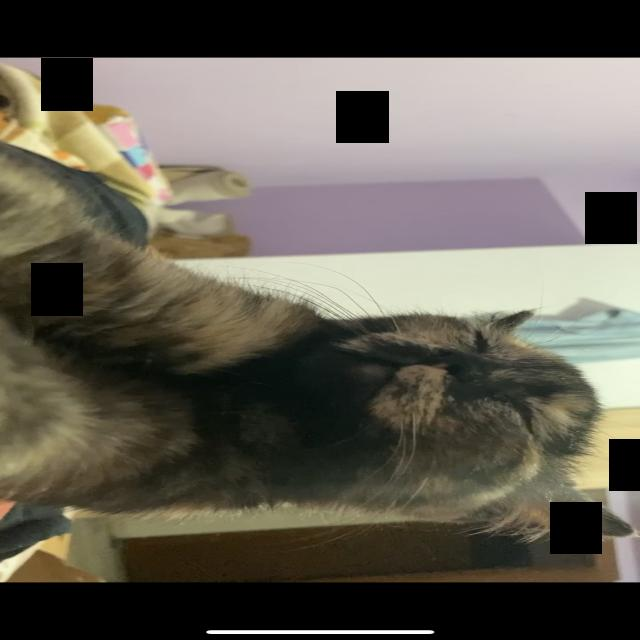authorized: (2, 139, 634, 546)
